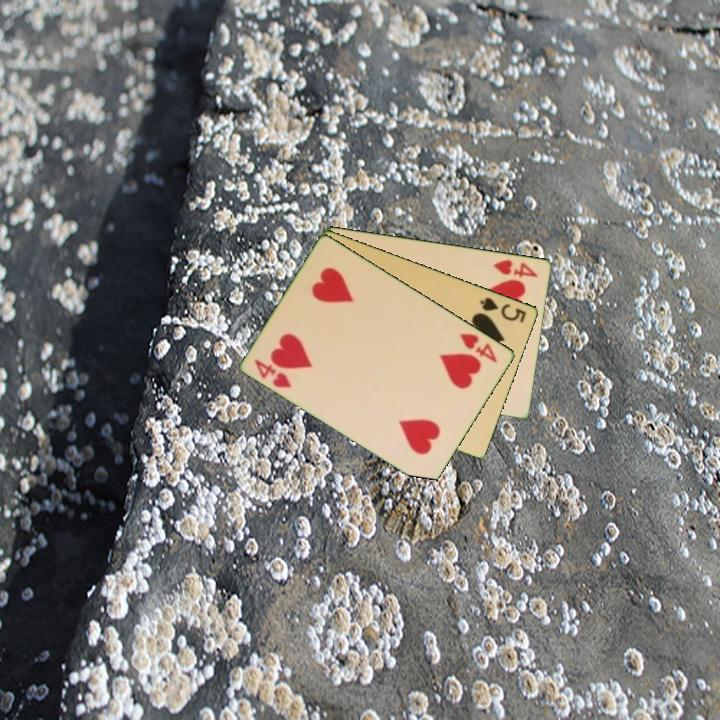4h: (457, 329, 501, 365), (251, 355, 295, 391), (490, 256, 541, 280)
5s: (477, 293, 530, 325)
